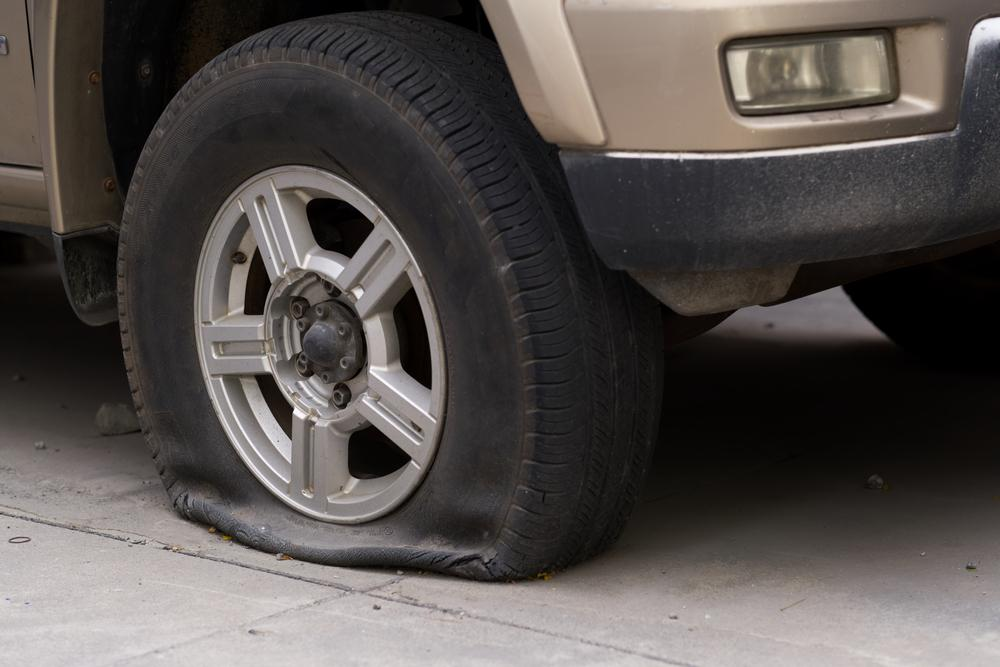tire flat: (116, 7, 670, 581)
